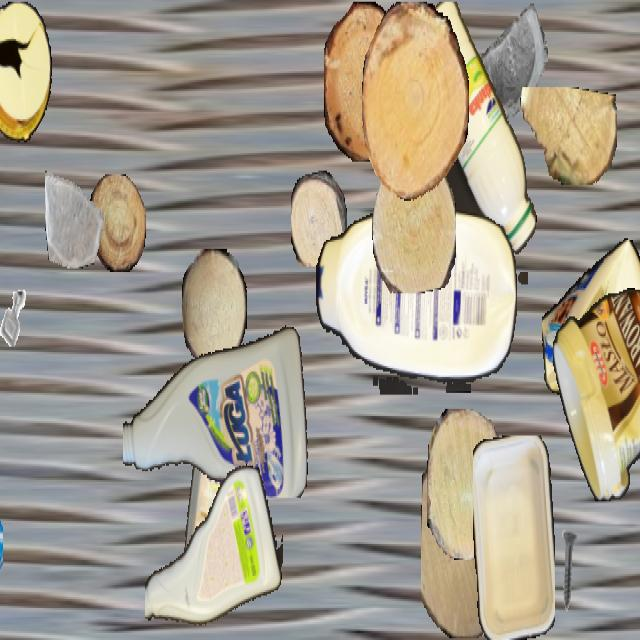glass: (476, 2, 548, 130), (45, 164, 103, 266), (0, 500, 2, 638)
metal: (486, 439, 546, 546), (544, 528, 592, 613), (0, 279, 36, 357)
plastic: (316, 210, 516, 394), (408, 1, 538, 282), (123, 313, 311, 498), (145, 457, 283, 638), (552, 288, 640, 501), (542, 237, 640, 407), (473, 436, 555, 638), (179, 386, 245, 602), (0, 2, 52, 140)
wood: (362, 2, 468, 201), (421, 439, 509, 638), (324, 2, 406, 162), (372, 150, 456, 292), (427, 409, 507, 558), (519, 87, 617, 183), (182, 249, 246, 363), (89, 174, 145, 270), (291, 170, 347, 266)
